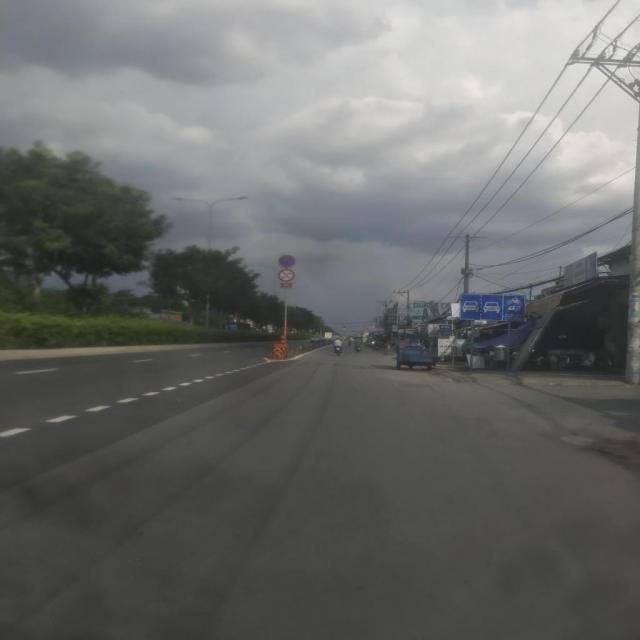cam_dung_xe_va_do_xe: (278, 255, 296, 268)
cam_xe_2_banh_va_xe_3_banh_co_dong_co: (278, 269, 296, 282)
lan_duong_cho_tung_xe_theo_vach_ke_duong: (460, 294, 525, 322)
